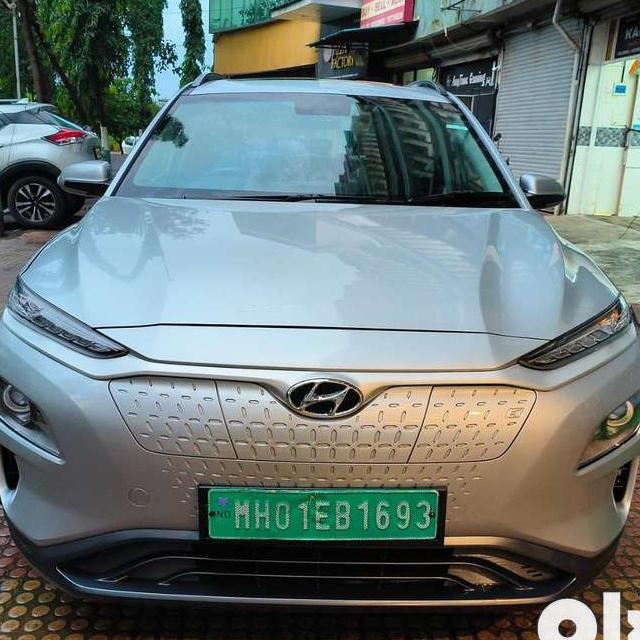Indian_Number_Plate: (197, 484, 448, 544)
